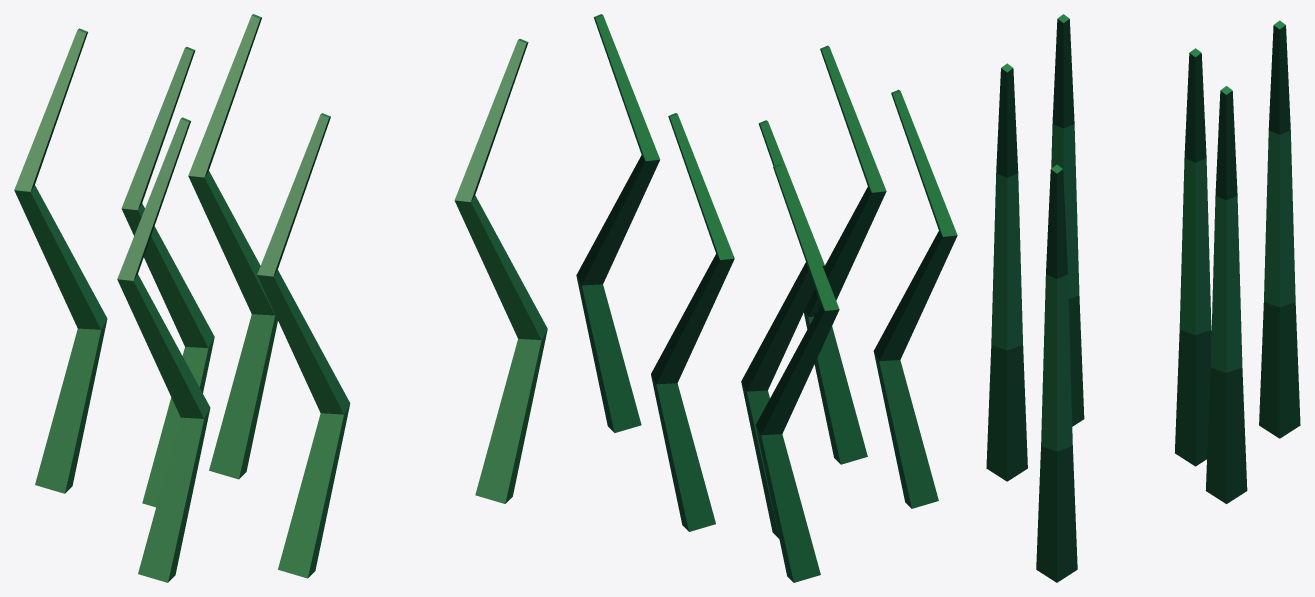
File: seaweed.glb
The picture shows the model from 3 angles, left to right: view 1: azimuth 30°, elevation 25°; view 2: azimuth 150°, elevation 25°; view 3: azimuth 270°, elevation 25°; orthographic projection. The views are drawn at different scales.
Parts seen in each view (by area): view 1: seaweed; view 2: seaweed; view 3: seaweed.
Boxes of the visible parts, x1,y1,x2,y2 form: seaweed: [14, 14, 547, 582]; seaweed: [576, 14, 957, 582]; seaweed: [986, 14, 1300, 582].
Bounding box in the file's own units: 0.4392 × 0.4475 × 0.3027.
